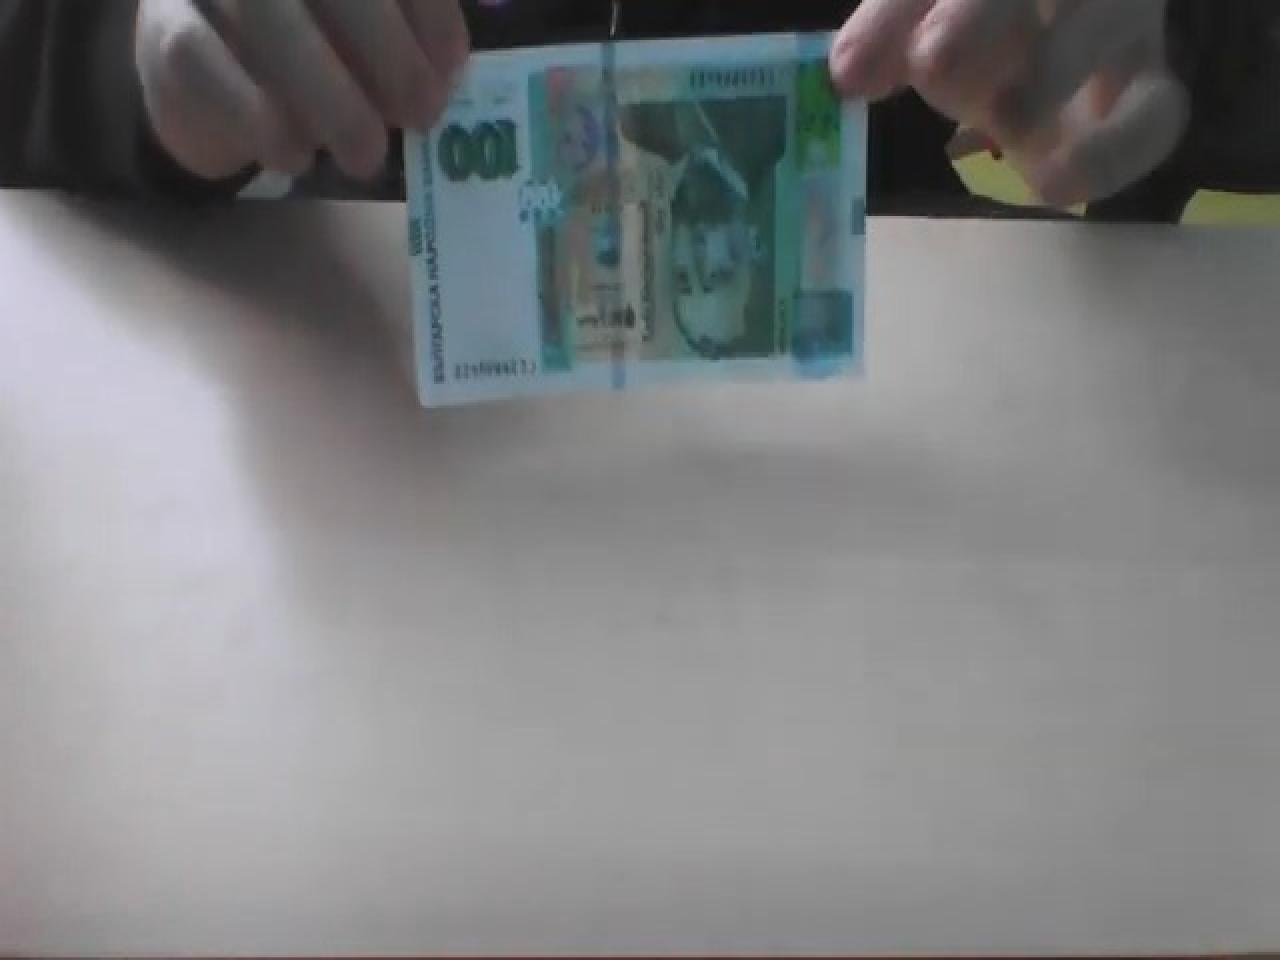100leva: (400, 29, 870, 408)
